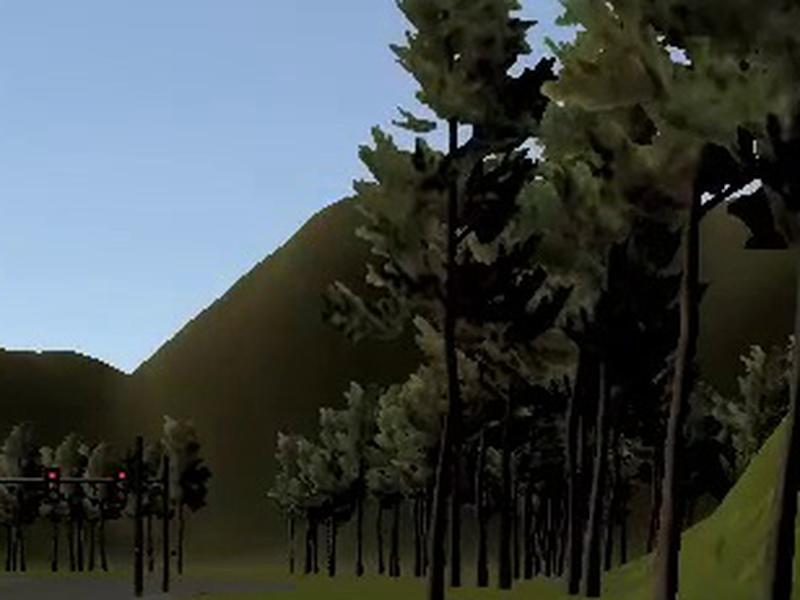Red: (114, 467, 128, 506), (46, 467, 60, 505)
